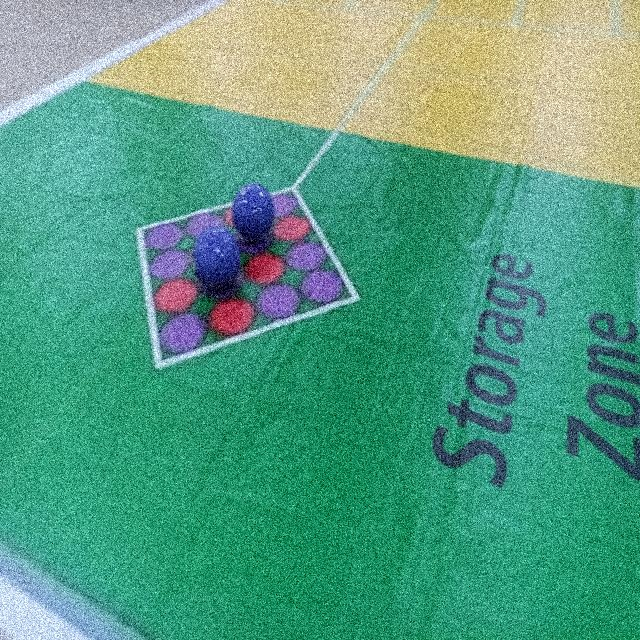purple_ball: (194, 225, 240, 293), (234, 184, 275, 237)
